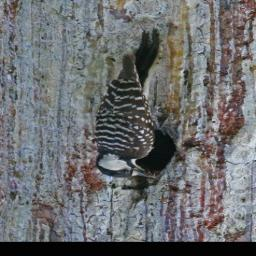Woodpecker: (88, 29, 165, 182)
